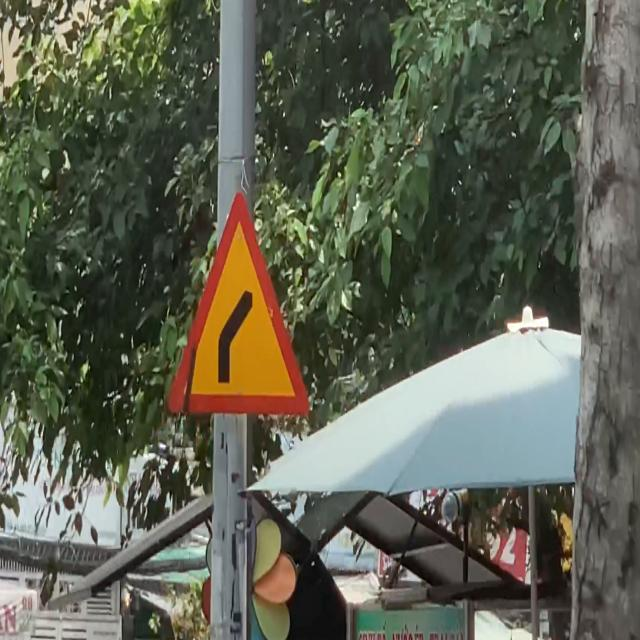Nguy hiem: (164, 188, 311, 417)
